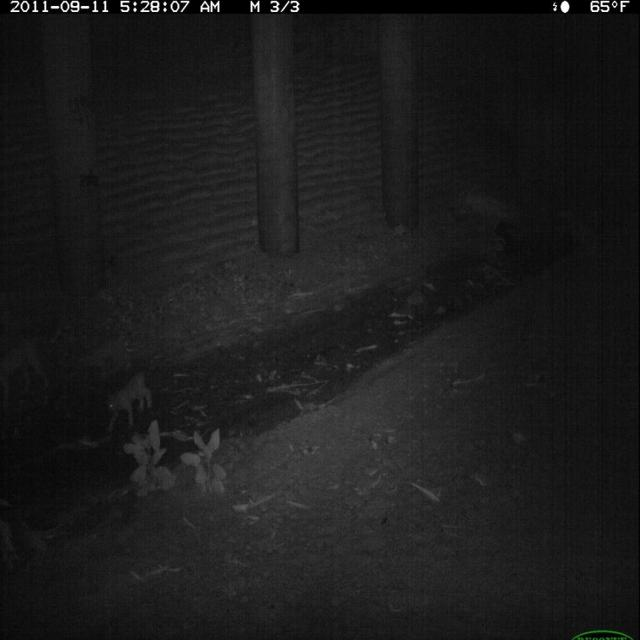bobcat: (103, 366, 158, 442), (1, 337, 55, 402)
